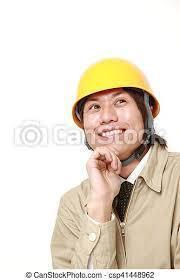helmet: (72, 57, 160, 112)
